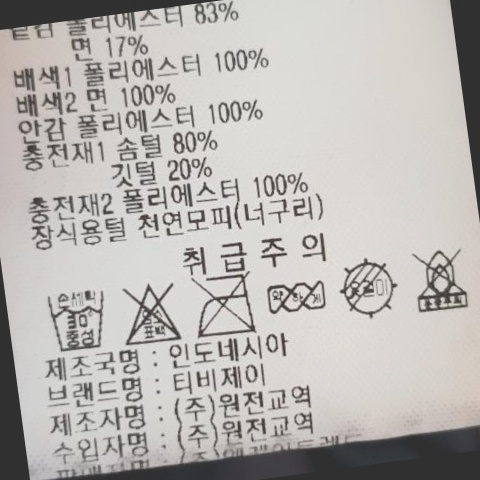DN_iron: (188, 271, 260, 343)
hand_wash: (46, 283, 116, 357)
line_dry_in_shade: (339, 254, 404, 322)
non_chlorine_bleach: (117, 270, 189, 349)
wring: (265, 272, 334, 319)
